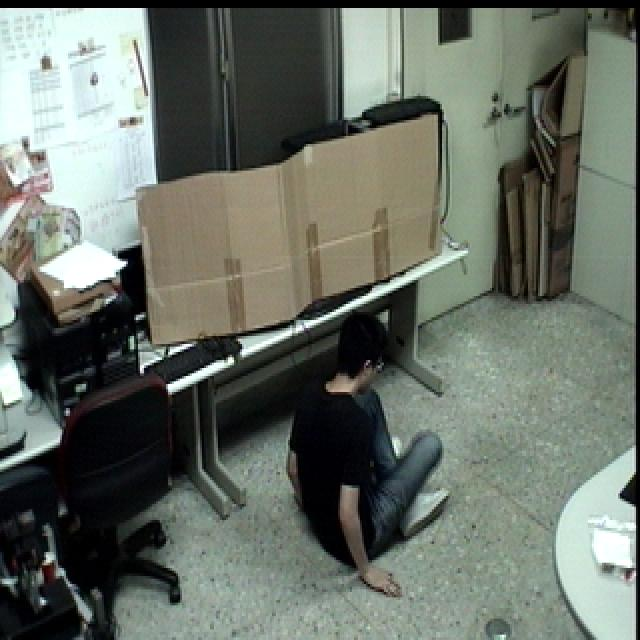sit: (275, 297, 462, 602)
